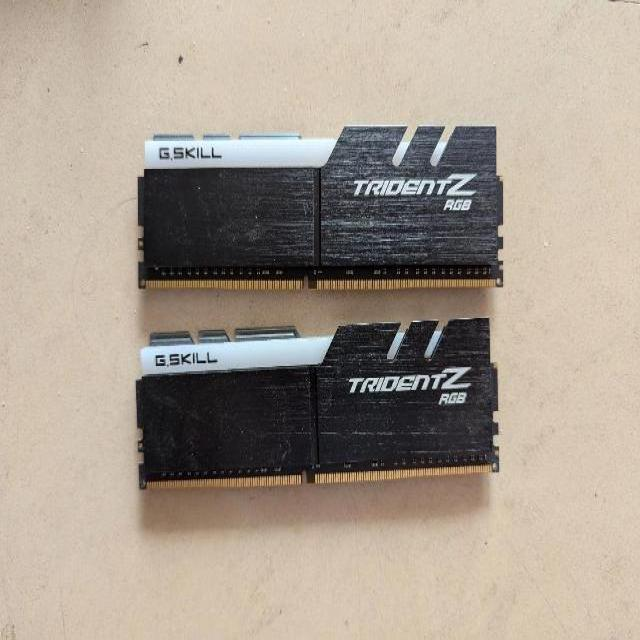RAM: (134, 317, 500, 495), (137, 124, 506, 291)
